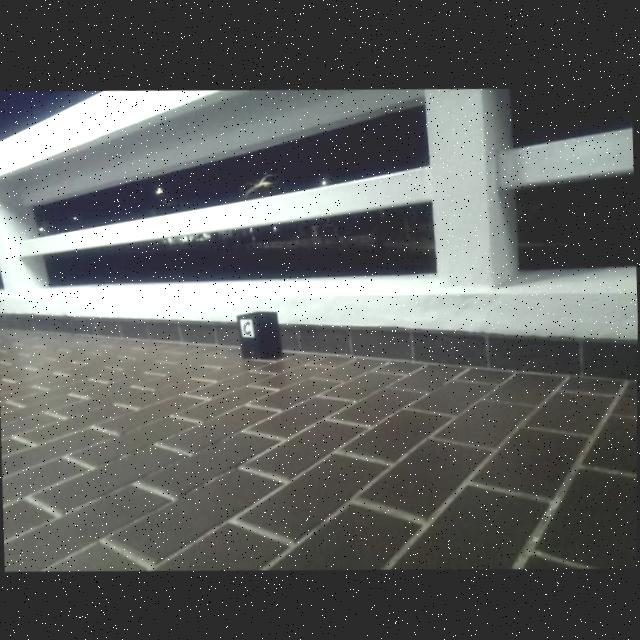C: (243, 319, 251, 333)
